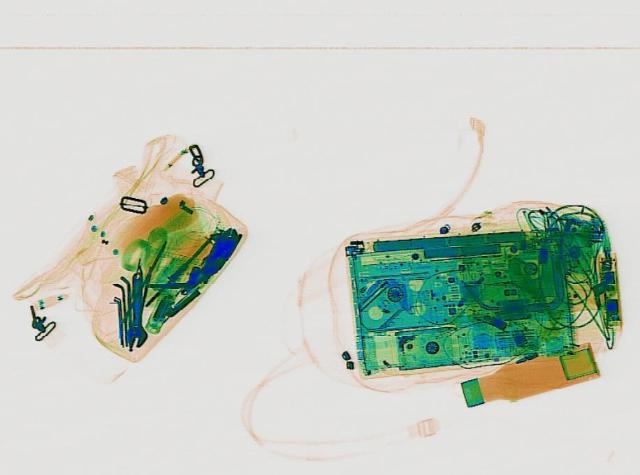Wrench: (122, 272, 146, 347)
